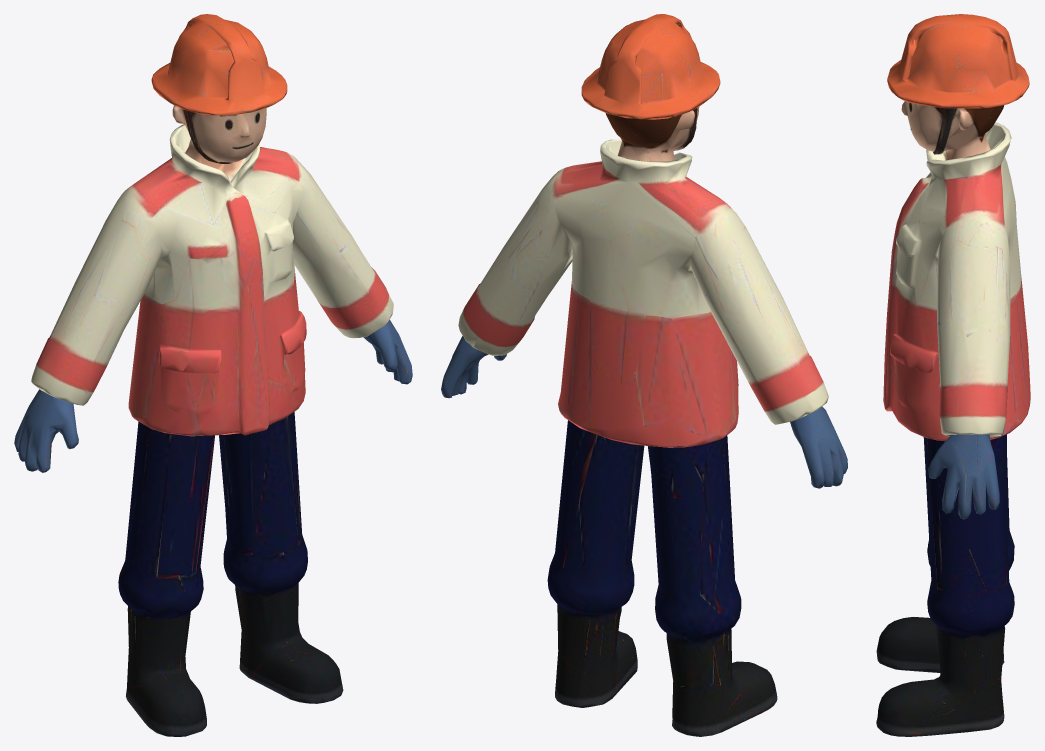
File: firefighter-512.glb
3 renders of one model, left to right at view 1: azimuth 30°, elevation 25°; view 2: azimuth 150°, elevation 25°; view 3: azimuth 270°, elevation 25°, orthographic. The views are drawn at different scales.
Size of the model in its own units: 1.14 by 1.9 by 0.3944.
Materials: 1 (1 with a texture image).
